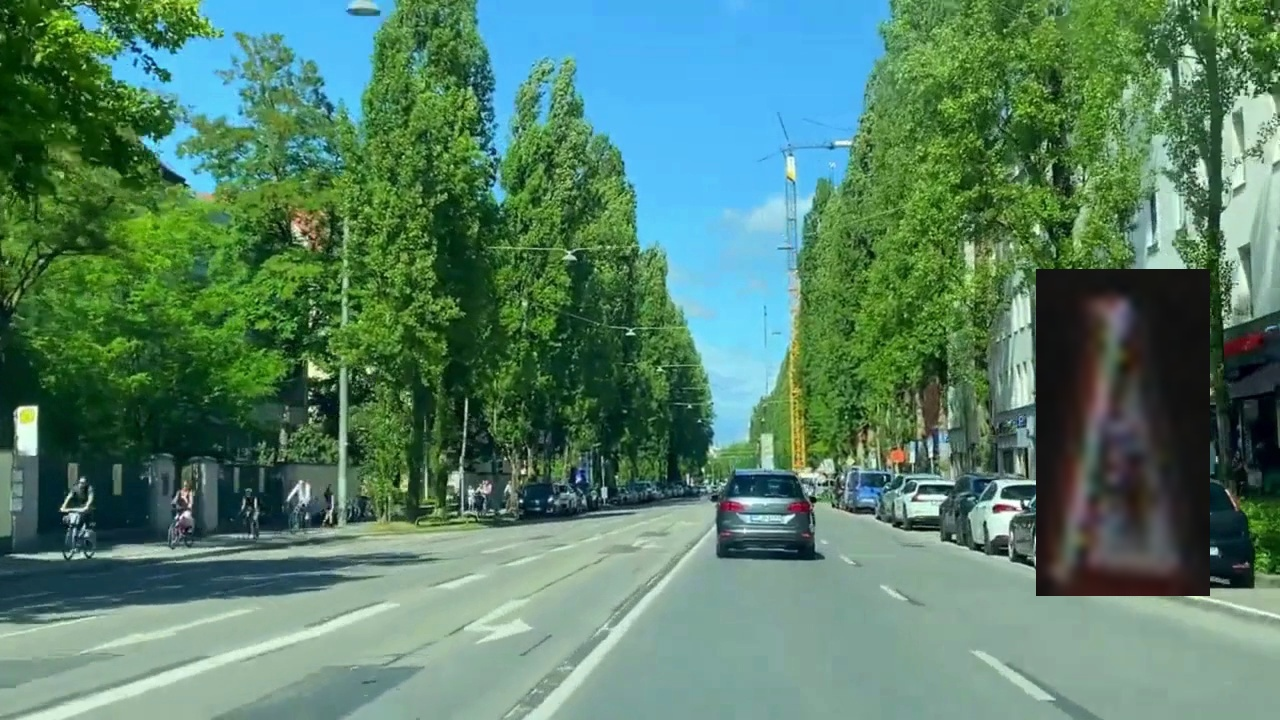Right-of-way: (1036, 269, 1210, 596)
